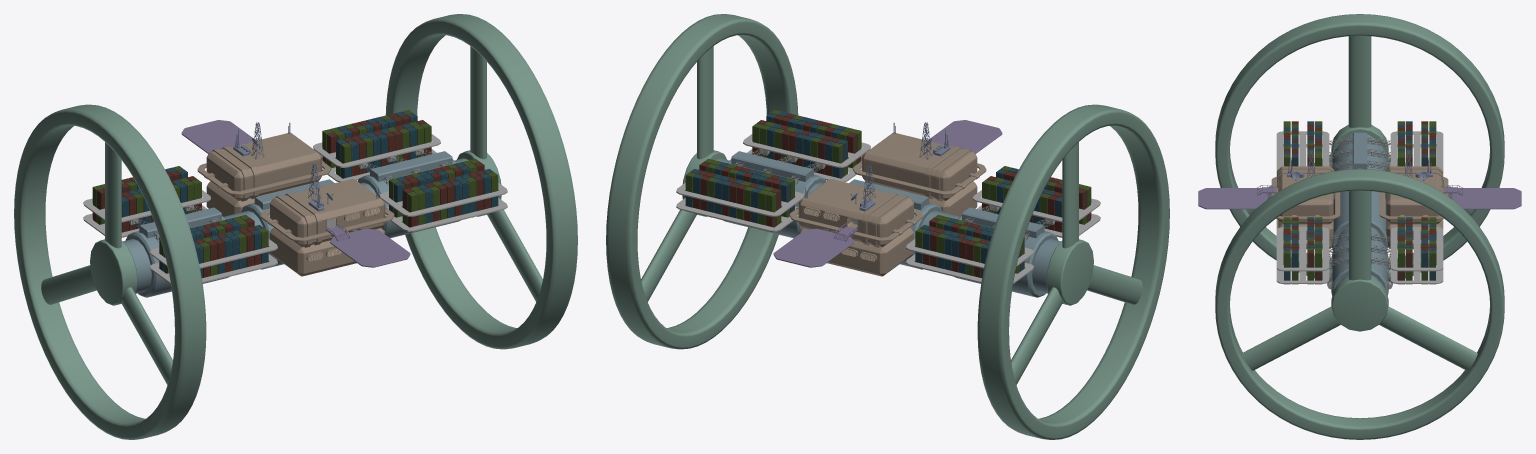
File: Station_meshGroup.fbx
3 renders of one model, left to right at view 1: azimuth 30°, elevation 25°; view 2: azimuth 150°, elevation 25°; view 3: azimuth 270°, elevation 25°, orthographic. The views are drawn at different scales.
Parts seen in each view (by area): view 1: Rings_mesh, Cargo_mesh_low4, Habitat_mesh, StationBody_mesh; view 2: Rings_mesh, Cargo_mesh_low4, Habitat_mesh, StationBody_mesh; view 3: Rings_mesh, Cargo_mesh_low4, Habitat_mesh, StationBody_mesh.
Part boxes in pixels (x1,y1,x2,y2): Rings_mesh: (14,14,577,439); Cargo_mesh_low4: (83,110,507,283); Habitat_mesh: (181,120,410,276); StationBody_mesh: (123,151,468,297); Rings_mesh: (606,14,1169,439); Cargo_mesh_low4: (676,110,1100,283); Habitat_mesh: (773,120,1002,276); StationBody_mesh: (715,151,1060,297); Rings_mesh: (1215,14,1504,439); Cargo_mesh_low4: (1276,121,1443,289); Habitat_mesh: (1198,149,1521,249); StationBody_mesh: (1331,132,1388,295).
Size of the model in its own units: 14248 by 10536 by 11765.
